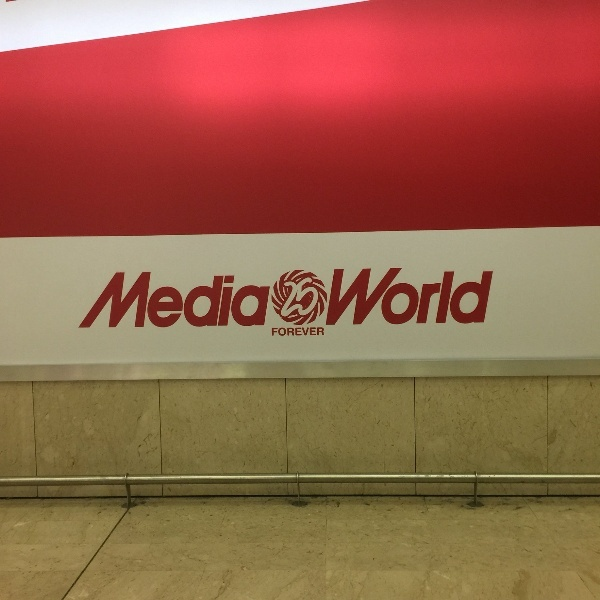text: (257, 273, 273, 329), (337, 268, 352, 326), (353, 268, 368, 326), (369, 268, 384, 326), (385, 268, 400, 326), (401, 268, 416, 326), (417, 268, 432, 326), (433, 268, 448, 326), (449, 268, 464, 326), (465, 268, 480, 326), (129, 273, 144, 329), (145, 273, 160, 329), (161, 273, 176, 329), (177, 273, 192, 329), (193, 273, 208, 329), (209, 273, 224, 329), (225, 273, 240, 329), (241, 273, 256, 329), (481, 268, 494, 326), (116, 273, 128, 329), (289, 275, 304, 317), (305, 275, 319, 317), (284, 275, 288, 317), (273, 327, 288, 336), (289, 327, 304, 336), (305, 327, 320, 336), (335, 268, 336, 326), (321, 327, 324, 336)
